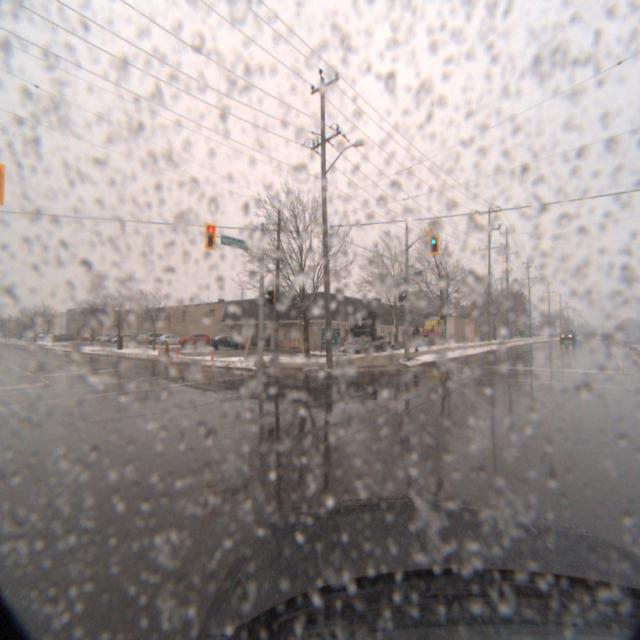Car: (179, 332, 215, 348), (158, 333, 190, 348)
